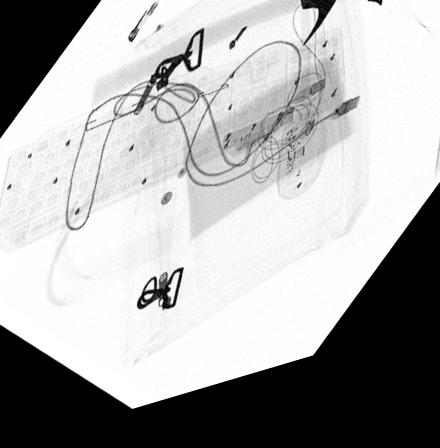Hammer: (89, 0, 339, 114)
